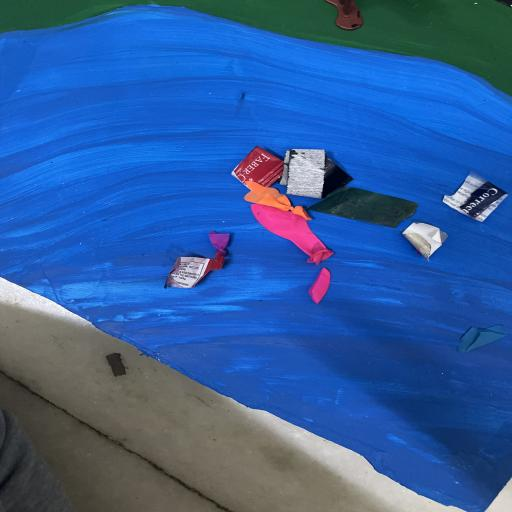trash: (161, 144, 512, 305)
